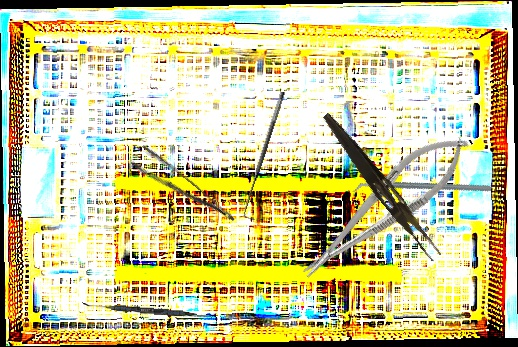Chopper: (352, 132, 493, 245)
Dressing Forceps: (315, 110, 447, 263), (128, 142, 238, 238)
Hook Surgical: (238, 90, 295, 221)
Needle Holder: (288, 119, 481, 293)
Spatula Surgical: (81, 302, 213, 319)
